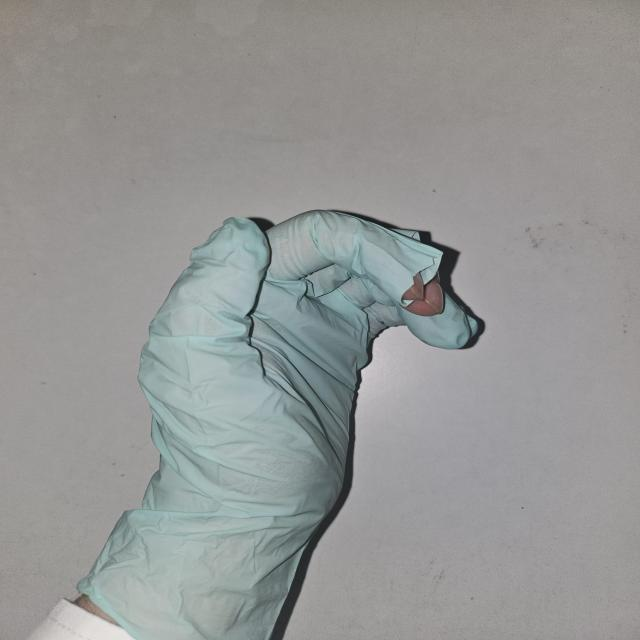gloves_damaged: (76, 208, 483, 640)
